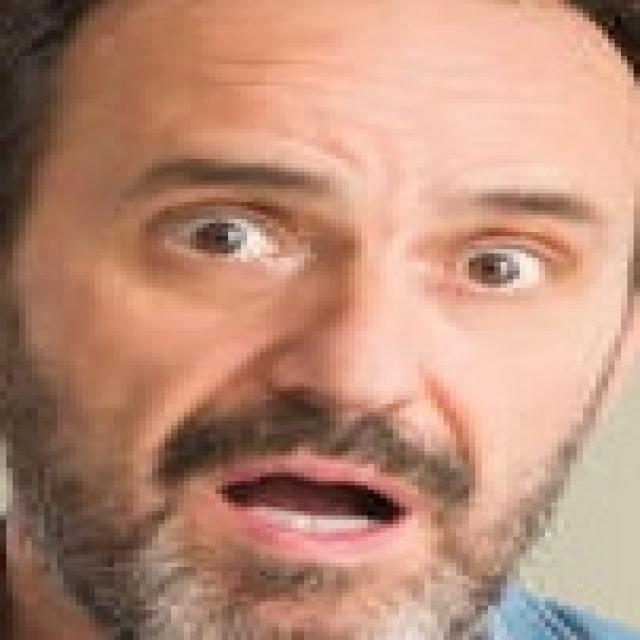Anxiety: (0, 0, 634, 636)
